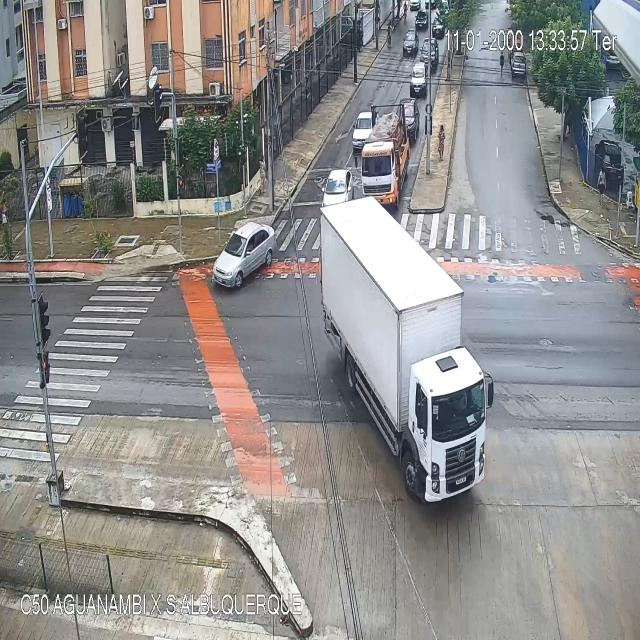Car: (212, 220, 276, 290), (321, 169, 356, 205), (399, 98, 421, 144), (353, 110, 375, 147), (421, 38, 438, 72), (409, 64, 427, 94), (432, 9, 448, 38), (403, 31, 416, 60), (512, 51, 524, 70), (416, 12, 428, 31)
Truck: (318, 196, 495, 505), (362, 105, 410, 206)
